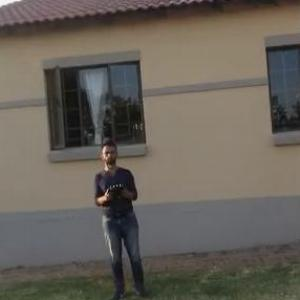follow: (90, 134, 151, 299)
